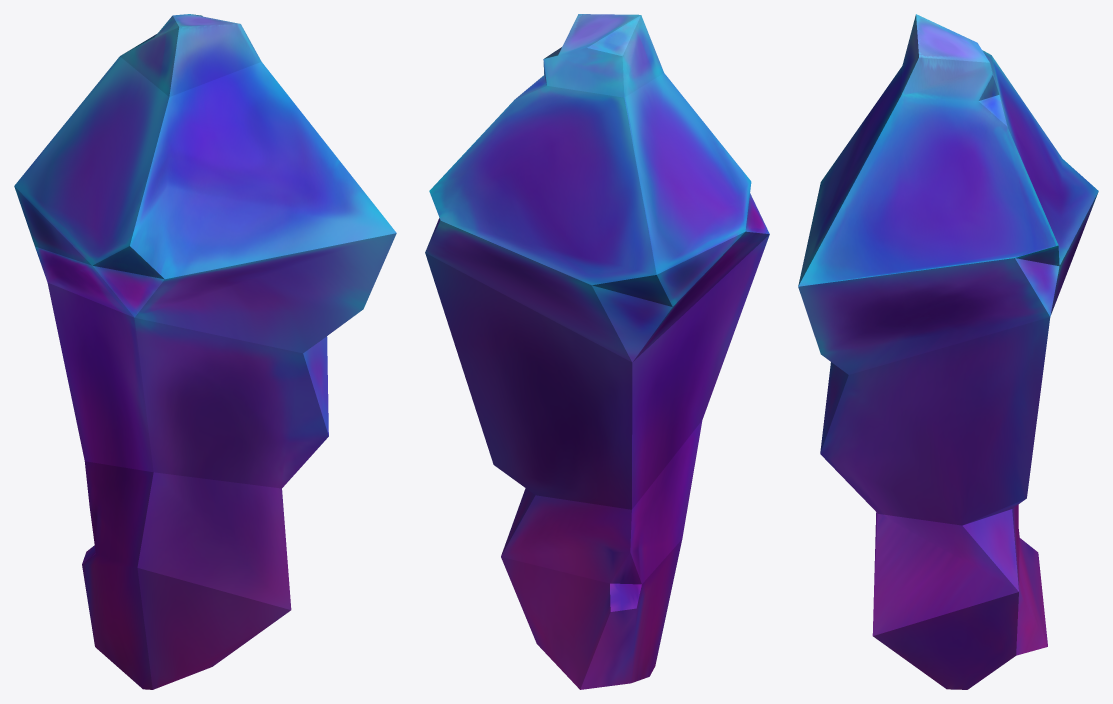
Rendered from crystal2.fbx.
The picture shows the model from 3 angles, left to right: view 1: azimuth 30°, elevation 25°; view 2: azimuth 150°, elevation 25°; view 3: azimuth 270°, elevation 25°; orthographic projection. The views are drawn at different scales.
Visible parts, largest first — view 1: Cube.012; view 2: Cube.012; view 3: Cube.012.
Boxes of the visible parts, left/top/right/bottom form: Cube.012: left=14, top=14, right=396, bottom=689; Cube.012: left=425, top=14, right=769, bottom=689; Cube.012: left=798, top=14, right=1098, bottom=689.
Bounding box in the file's own units: 295 × 737 × 306.
